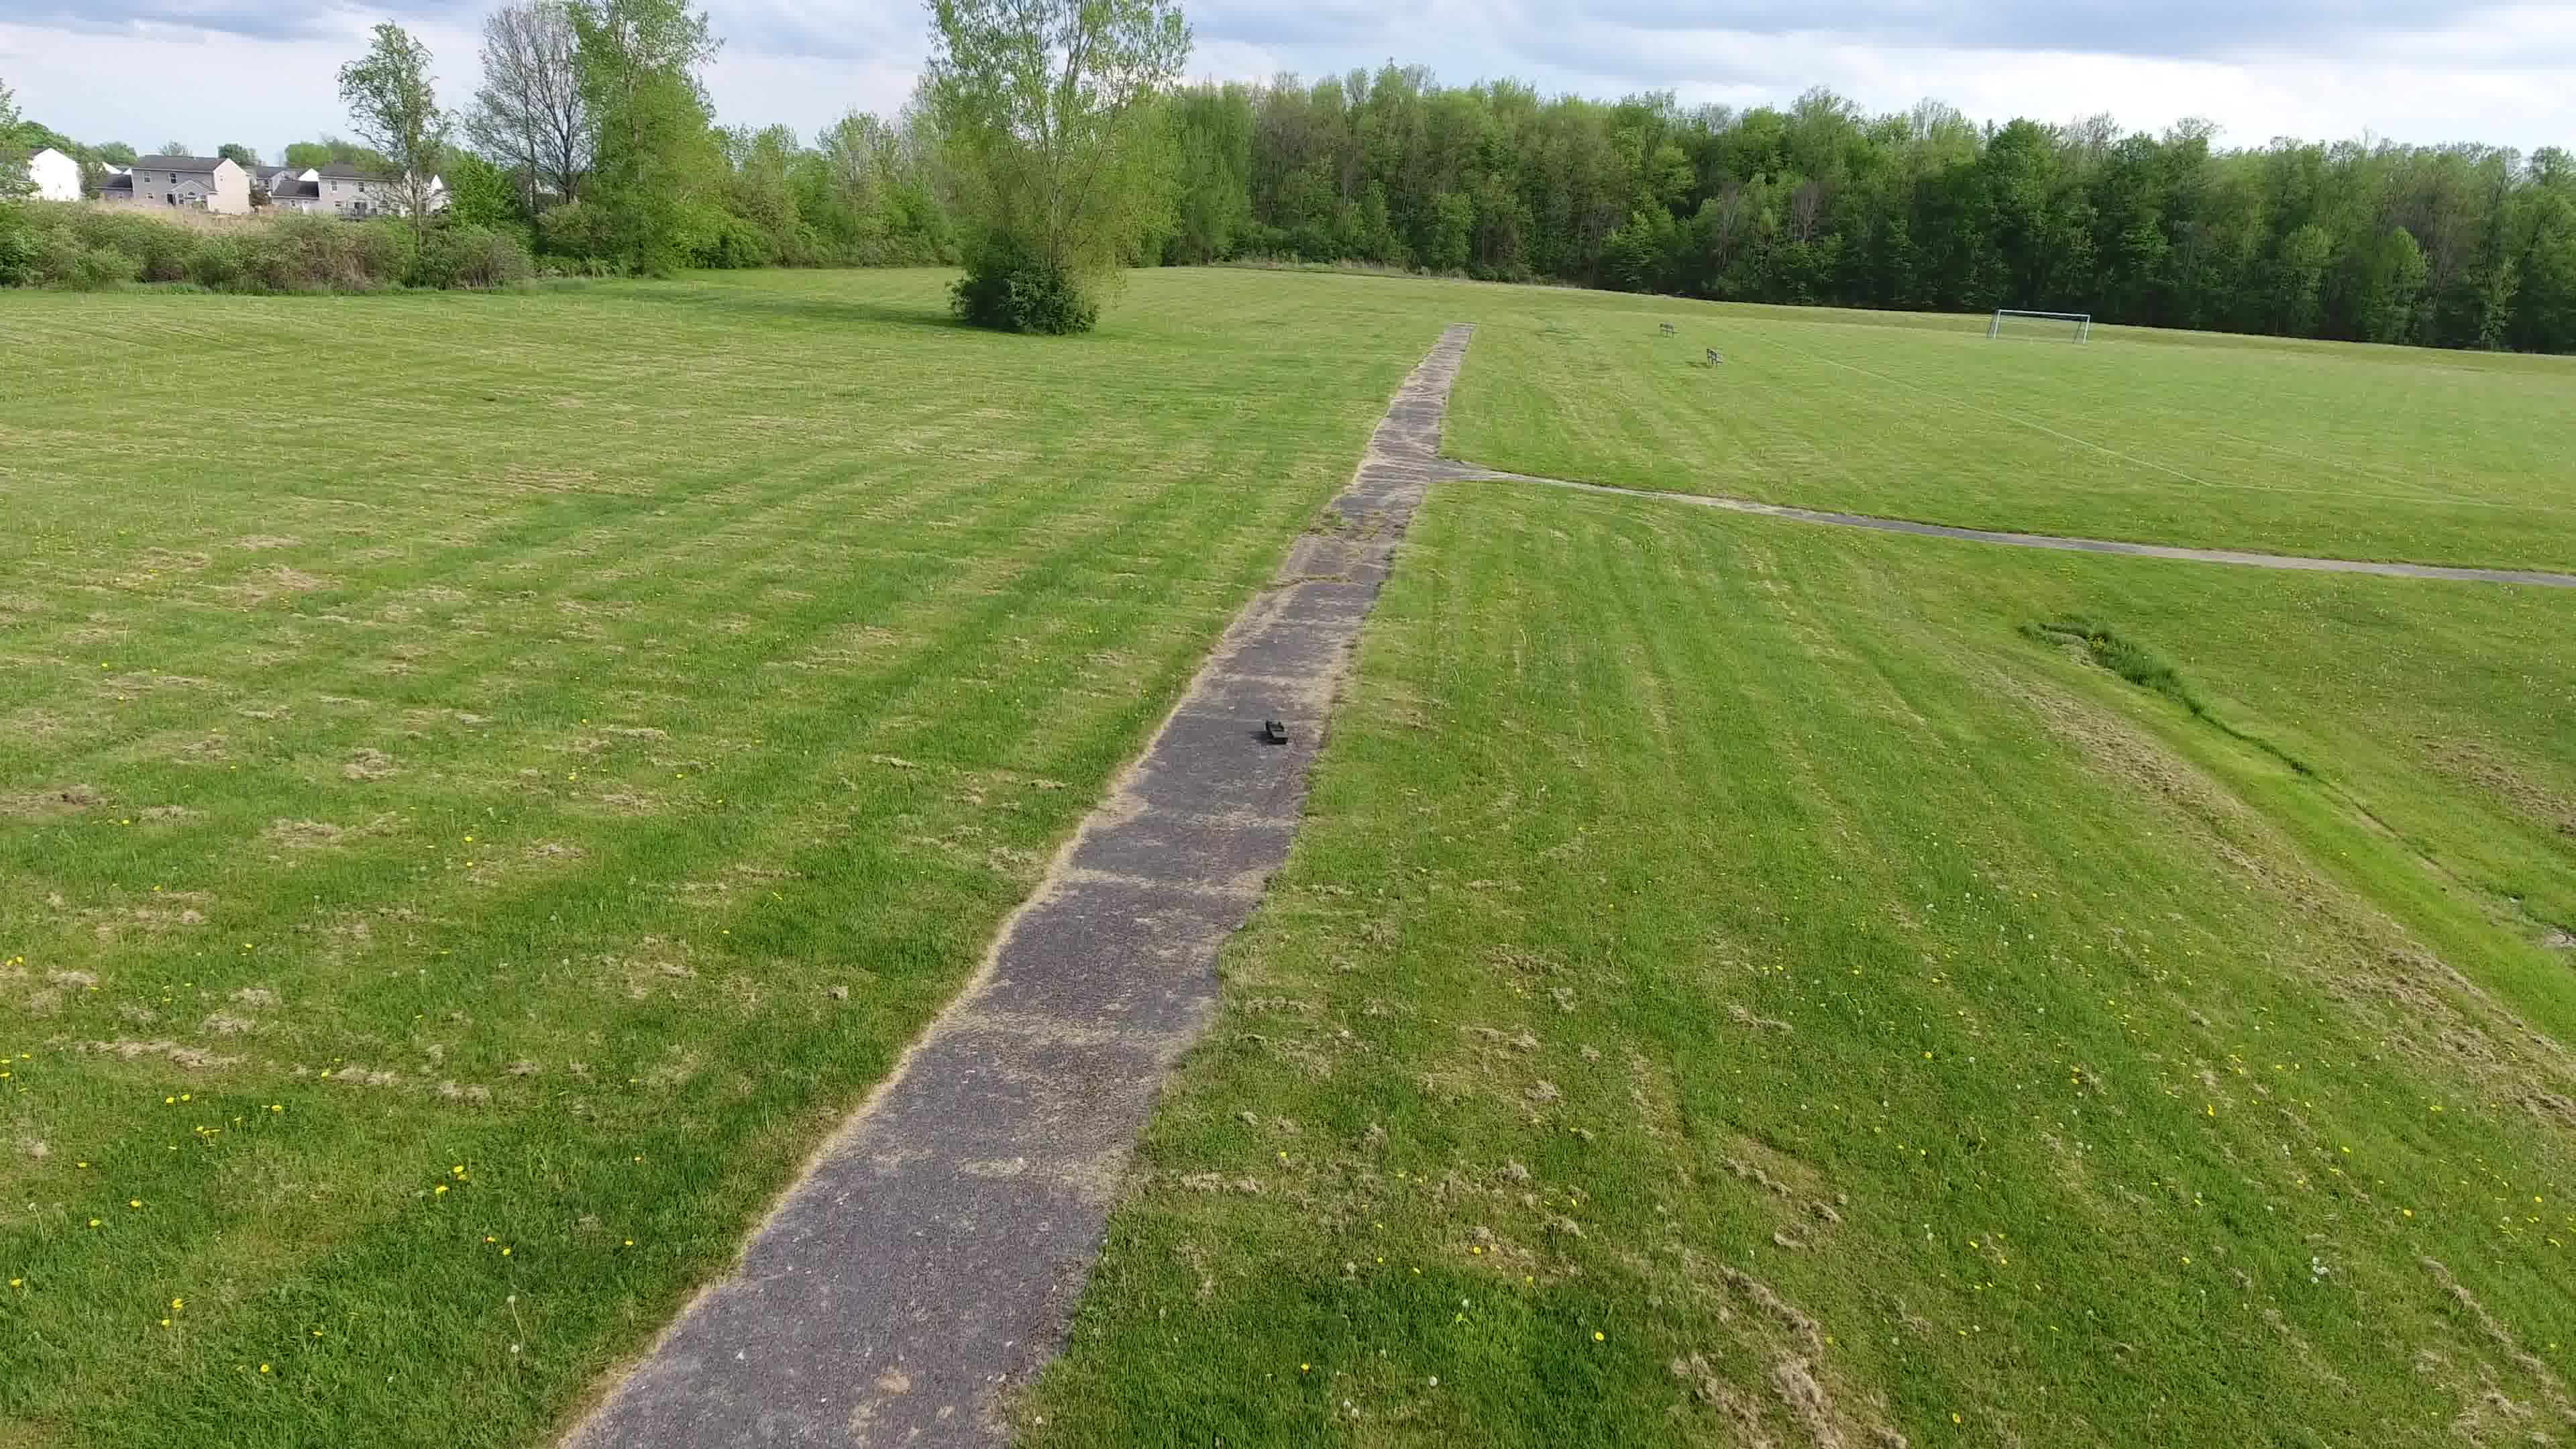transporter9_camo: (1263, 718, 1290, 745)
